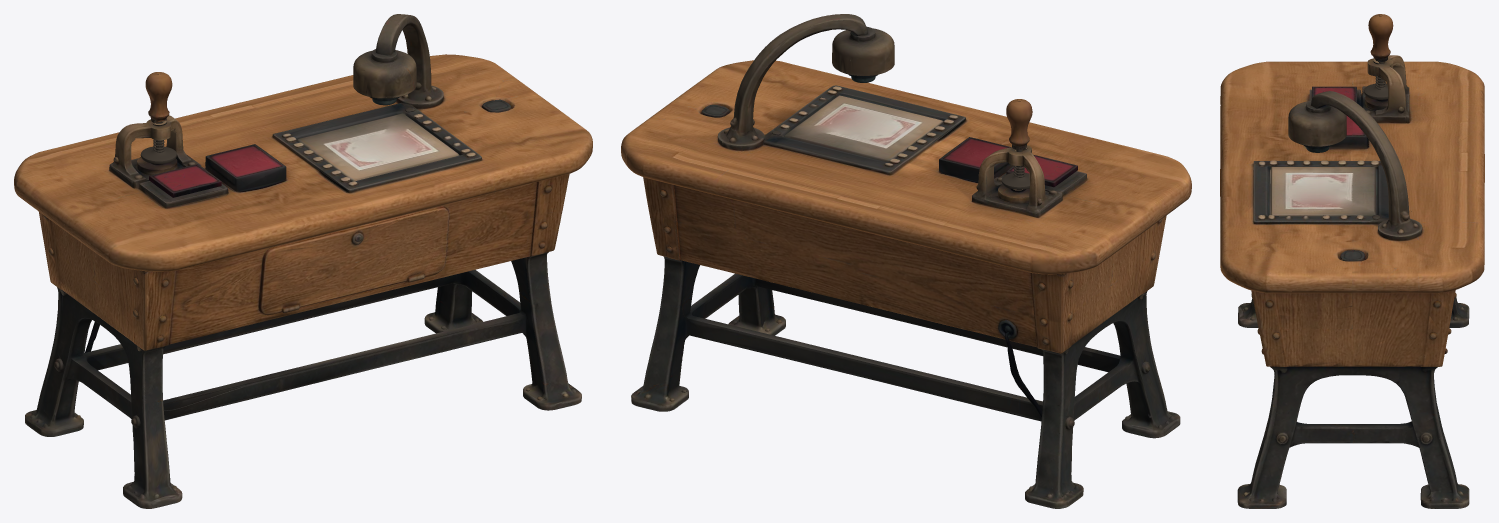
Rendered from passport.glb.
The picture shows the model from 3 angles, left to right: view 1: azimuth 30°, elevation 25°; view 2: azimuth 150°, elevation 25°; view 3: azimuth 270°, elevation 25°; orthographic projection. The views are drawn at different scales.
Parts seen in each view (by area): view 1: Hi3D passport · retained original shell, NativeWoodenStampGrip; view 2: Hi3D passport · retained original shell, NativeWoodenStampGrip; view 3: Hi3D passport · retained original shell, NativeWoodenStampGrip, TravelStampRodAndDie.
Part boxes in pixels (box(x1,y1,x2,y2)): Hi3D passport · retained original shell: box(14, 14, 592, 508); NativeWoodenStampGrip: box(145, 72, 172, 122); Hi3D passport · retained original shell: box(621, 14, 1191, 508); NativeWoodenStampGrip: box(1006, 99, 1032, 149); Hi3D passport · retained original shell: box(1220, 55, 1484, 508); NativeWoodenStampGrip: box(1368, 14, 1393, 61); TravelStampRodAndDie: box(1364, 61, 1388, 99).
Size of the model in its own units: 1.84 by 1.37 by 0.939.
Materials: 3 (1 with a texture image).
